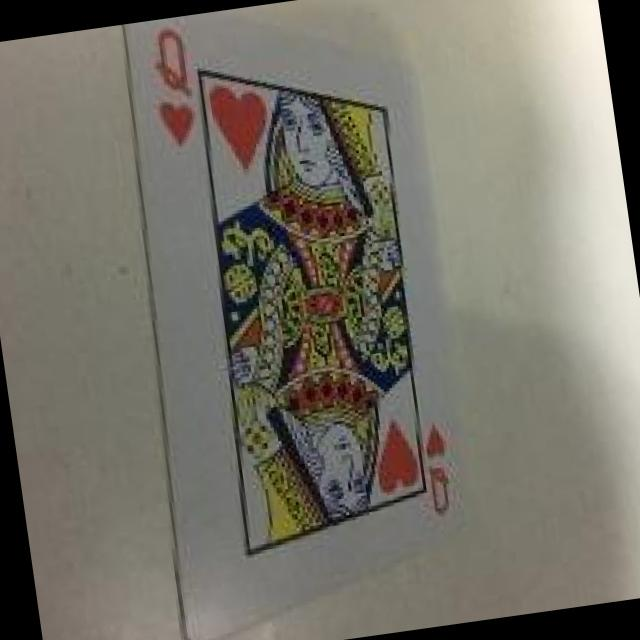Queen of hearts: (122, 13, 474, 640)
